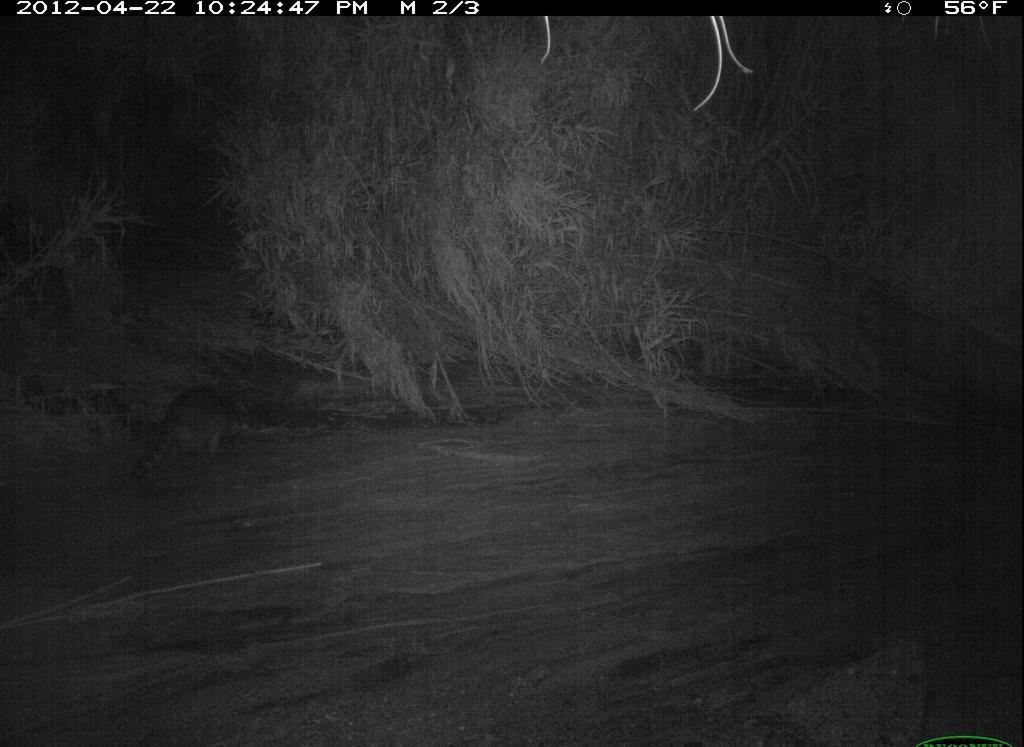raccoon: (116, 377, 258, 493)
